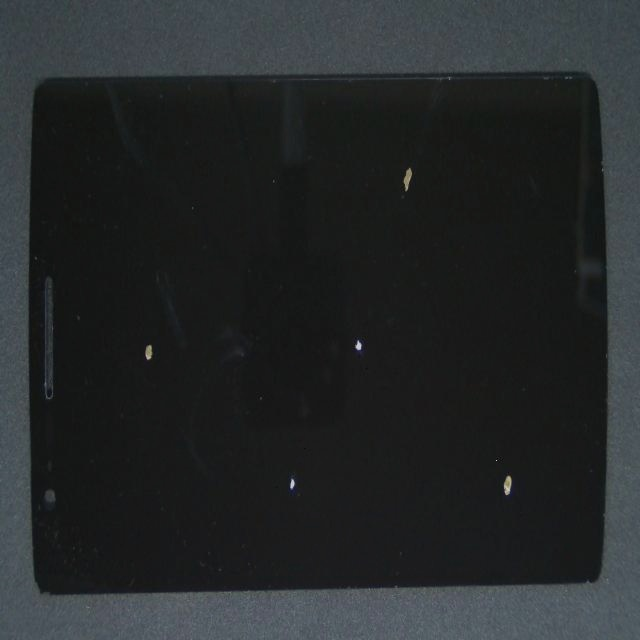stain: (264, 188, 640, 640), (148, 146, 528, 530), (116, 255, 435, 640), (179, 87, 608, 312), (69, 195, 207, 584)
